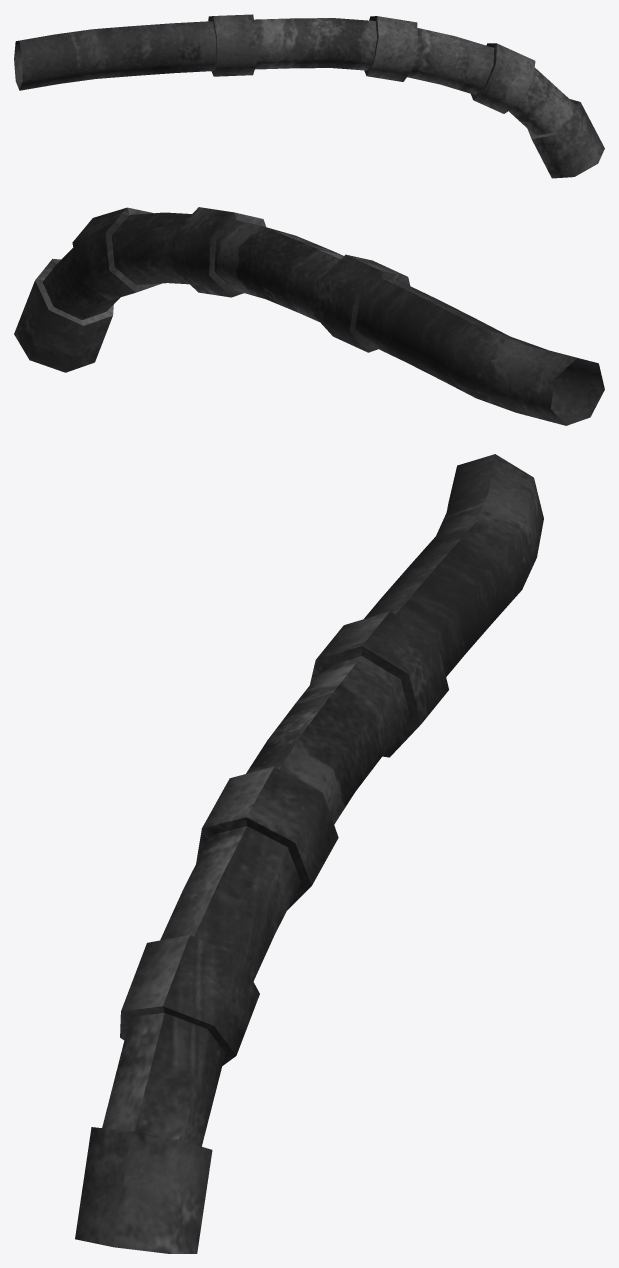
File: Pipes6.fbx
3 views of the same model, one above another, from view 1: azimuth 30°, elevation 25°; view 2: azimuth 150°, elevation 25°; view 3: azimuth 270°, elevation 25° (orthographic). The views are drawn at different scales.
Visible parts, largest first — view 1: LonelyPipe; view 2: LonelyPipe; view 3: LonelyPipe.
Part boxes in pixels (x1,y1,x2,y2): LonelyPipe: (14, 14, 604, 178); LonelyPipe: (14, 207, 604, 425); LonelyPipe: (75, 454, 543, 1253).
Size of the model in its own units: 56.77 by 19.68 by 23.12.
